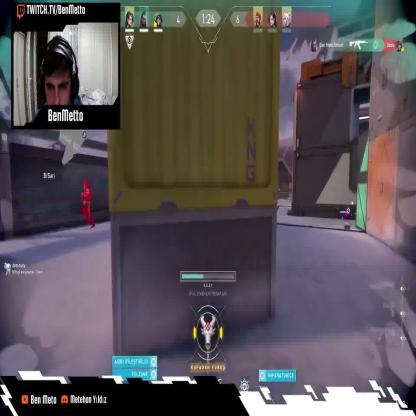enemy: (80, 178, 96, 230)
enemy_head: (83, 178, 89, 191)
